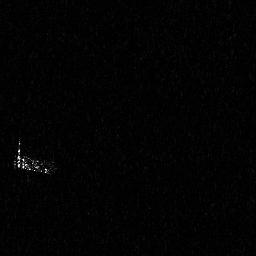ship: (12, 136, 57, 178)
